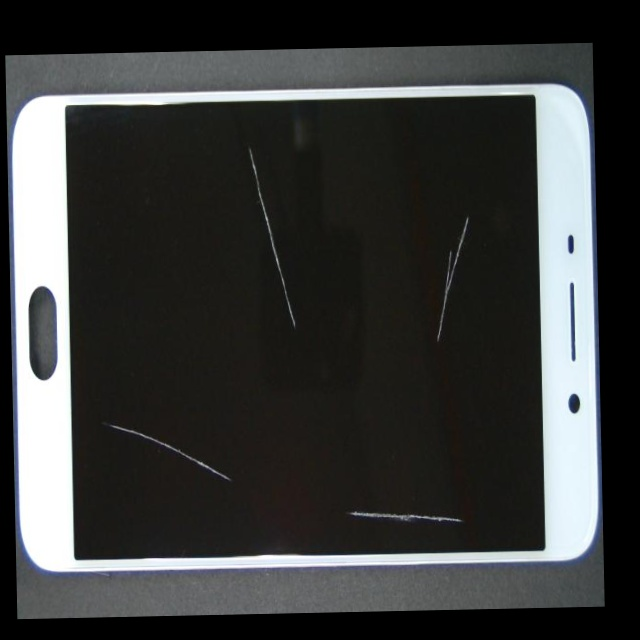scratch: (256, 43, 599, 354), (310, 284, 605, 613), (102, 47, 381, 284), (195, 291, 302, 615)
